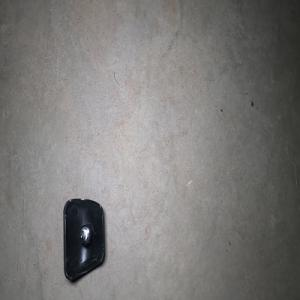LuggagePart: (62, 196, 106, 282)
